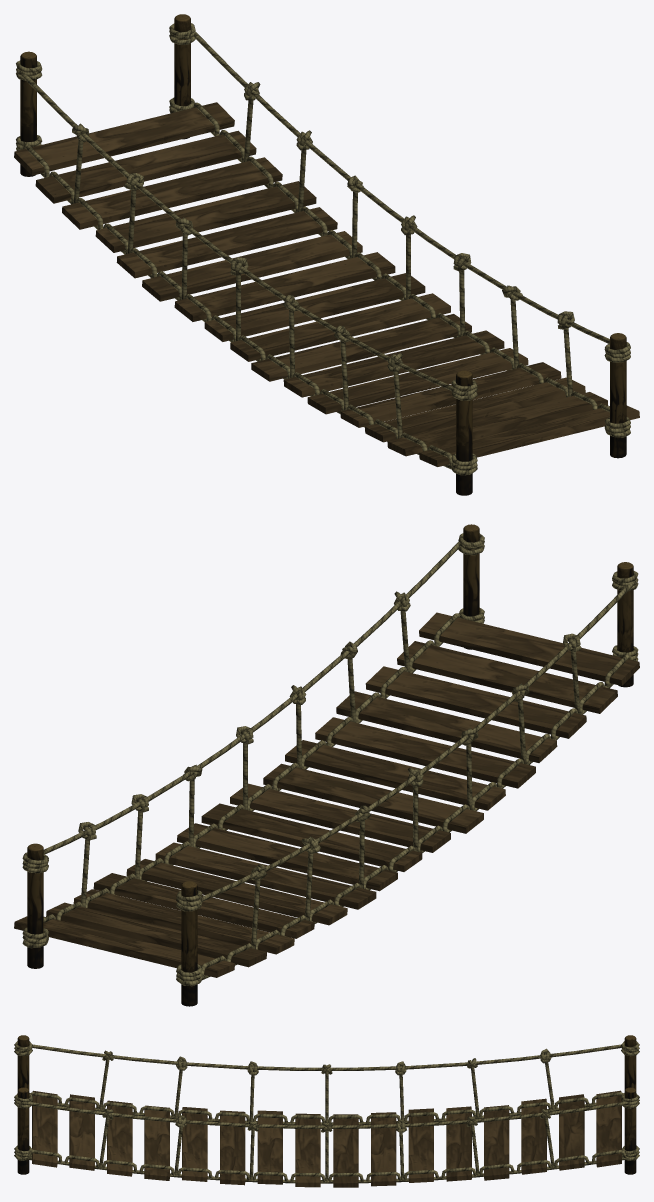
File: Bridge01.fbx
The picture shows the model from 3 angles, top to bottom: view 1: azimuth 30°, elevation 25°; view 2: azimuth 150°, elevation 25°; view 3: azimuth 270°, elevation 25°; orthographic projection. The views are drawn at different scales.
Visible parts, largest first — view 1: Bridge01_LOD0; view 2: Bridge01_LOD0; view 3: Bridge01_LOD0.
Boxes of the visible parts, x1,y1,x2,y2 form: Bridge01_LOD0: [14, 14, 639, 495]; Bridge01_LOD0: [14, 524, 639, 1006]; Bridge01_LOD0: [14, 1035, 639, 1187].
Size of what is drawn, in the model's own units: 246 by 145 by 907.
